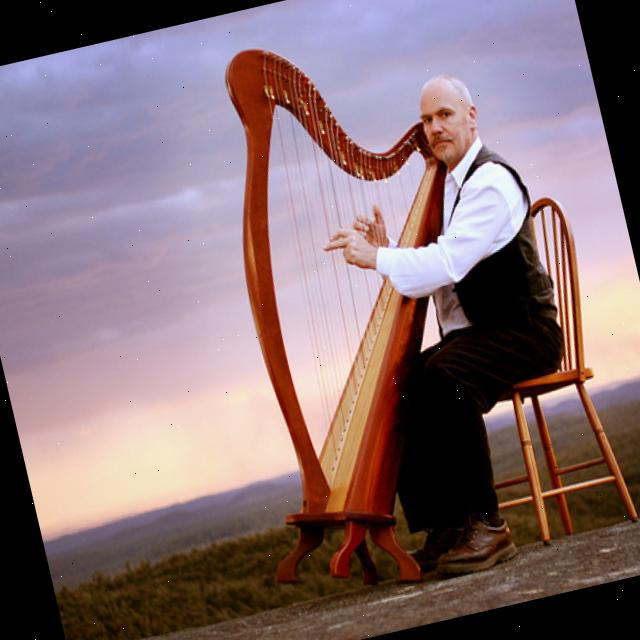harp: (158, 9, 529, 612)
